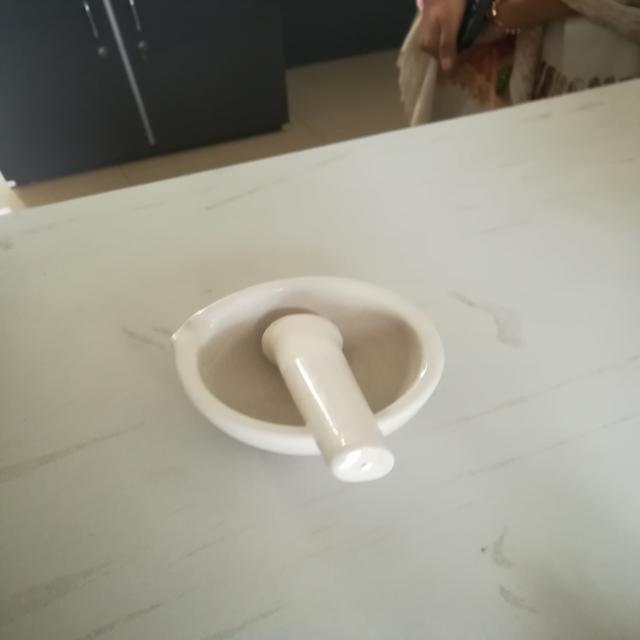Porcelain_Mortar Pestle: (140, 254, 512, 533)
